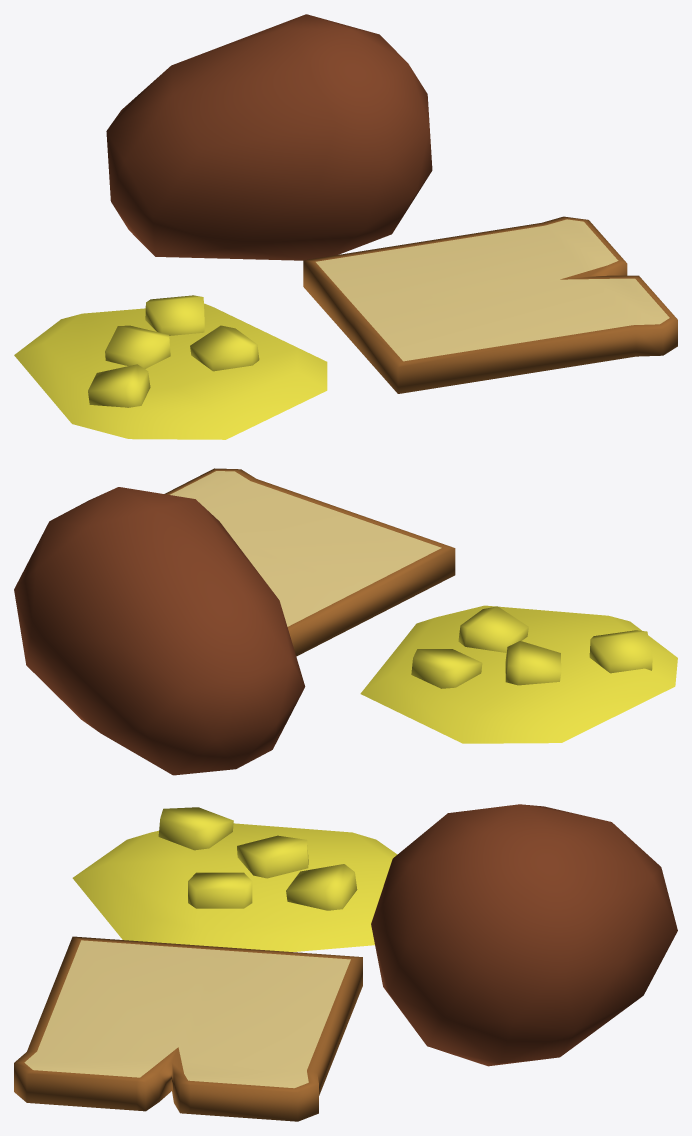
Rendered from awfulMeal.fbx.
The picture shows the model from 3 angles, top to bottom: view 1: azimuth 30°, elevation 25°; view 2: azimuth 150°, elevation 25°; view 3: azimuth 270°, elevation 25°; orthographic projection. The views are drawn at different scales.
Visible parts, largest first — view 1: Awful Meal; view 2: Awful Meal; view 3: Awful Meal.
Boxes of the visible parts, box(x1,y1,x2,y2) form: Awful Meal: box(14, 14, 677, 439); Awful Meal: box(14, 468, 677, 775); Awful Meal: box(14, 804, 677, 1121).
Size of the model in its own units: 14.95 by 13.96 by 5.68.
